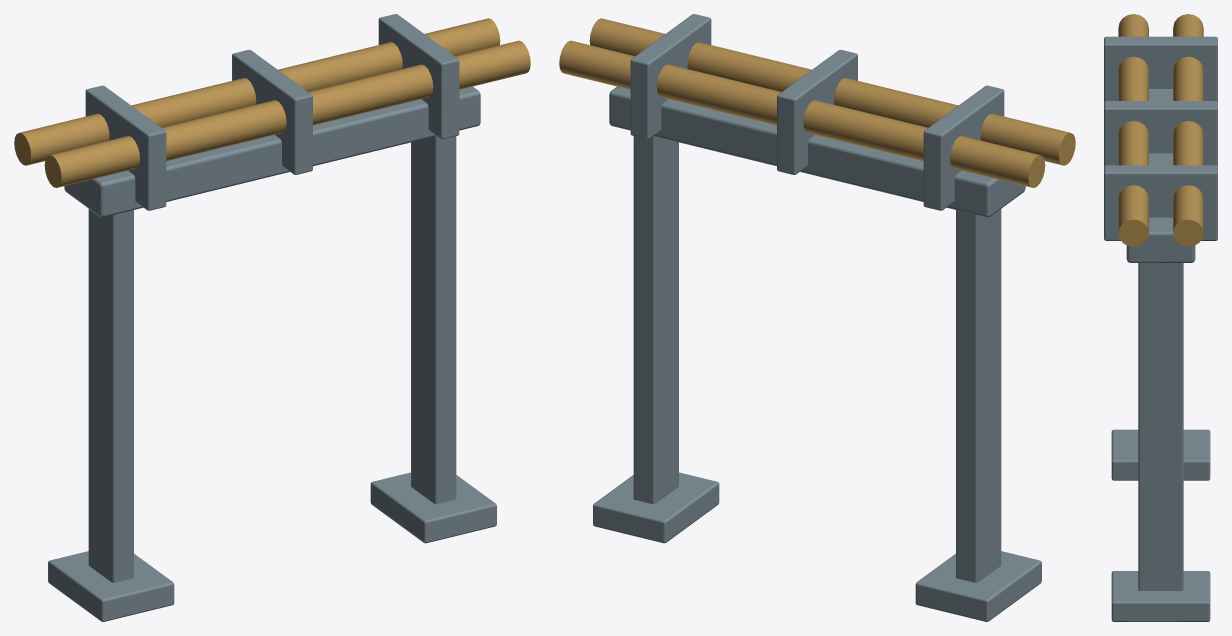
Rendered from pipe_bridge.glb.
3 views of the same model, side by side, from view 1: azimuth 30°, elevation 25°; view 2: azimuth 150°, elevation 25°; view 3: azimuth 270°, elevation 25° (orthographic). The views are drawn at different scales.
Visible parts, largest first — view 1: pipe_bridge; view 2: pipe_bridge; view 3: pipe_bridge.
Boxes of the visible parts, x1,y1,x2,y2 form: pipe_bridge: (14, 14, 530, 621); pipe_bridge: (559, 14, 1075, 621); pipe_bridge: (1104, 14, 1217, 621).
Bounding box in the file's own units: 3.2 × 3.14 × 0.75.
